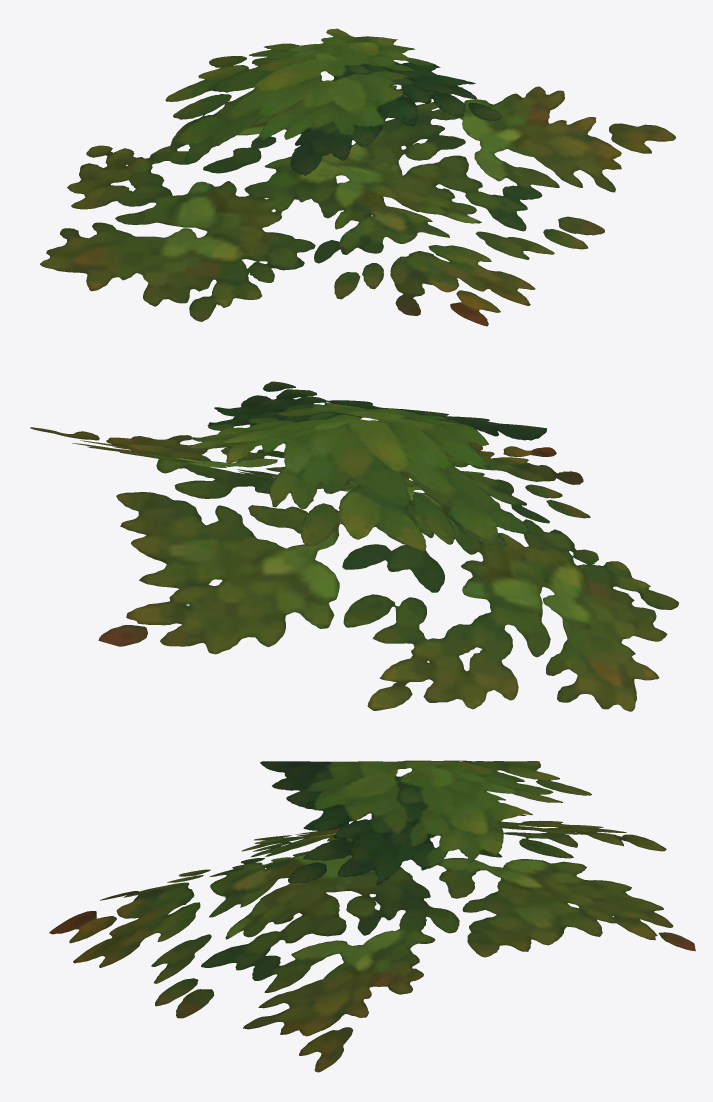
The model's file is plant_section03_guanka09.FBX.
3 views of the same model, one above another, from view 1: azimuth 30°, elevation 25°; view 2: azimuth 150°, elevation 25°; view 3: azimuth 270°, elevation 25° (orthographic). The views are drawn at different scales.
Visible parts, largest first — view 1: plant_section03_guanka09; view 2: plant_section03_guanka09; view 3: plant_section03_guanka09.
Boxes of the visible parts, x1=… form: plant_section03_guanka09: x1=40, y1=28, x2=675, y2=326; plant_section03_guanka09: x1=30, y1=381, x2=678, y2=711; plant_section03_guanka09: x1=49, y1=760, x2=695, y2=1072.
Bounding box in the file's own units: 3.8 × 3.25 × 1.01.
